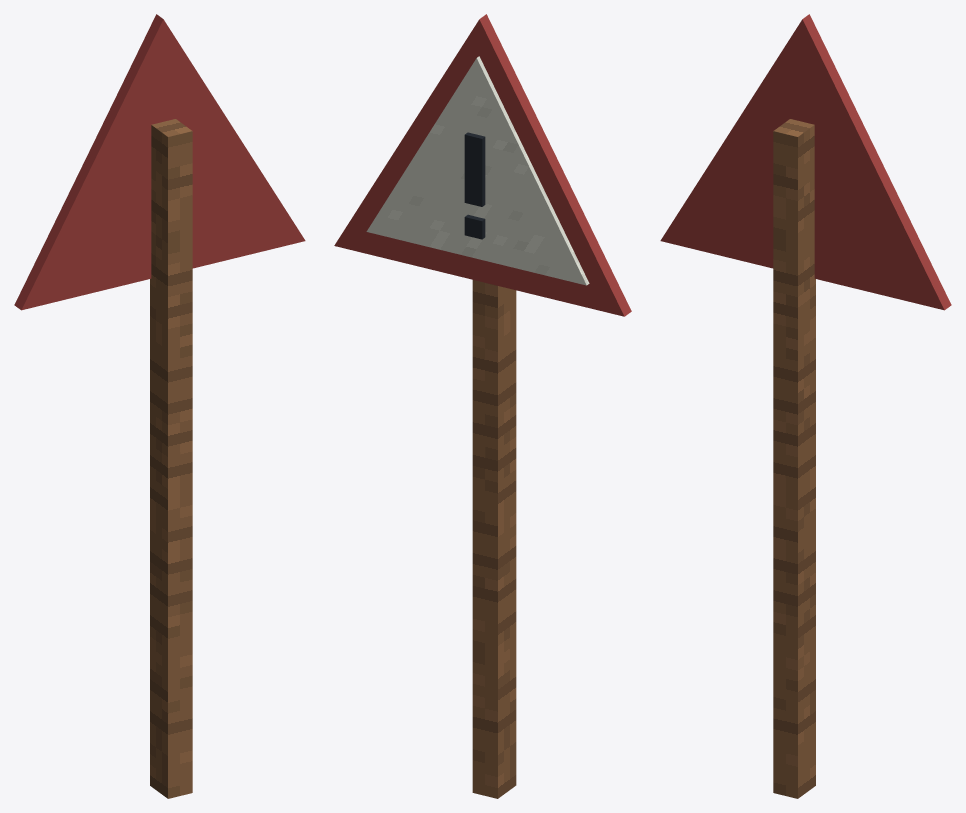
The model's file is f_sign_warning.glb.
The picture shows the model from 3 angles, left to right: view 1: azimuth 30°, elevation 25°; view 2: azimuth 150°, elevation 25°; view 3: azimuth 330°, elevation 25°; orthographic projection. The views are drawn at different scales.
Parts seen in each view (by area): view 1: block_red-outline, block_post-0; view 2: block_post-0, block_white-triangle, block_red-outline, block_warning-mark; view 3: block_red-outline, block_post-0.
Part boxes in pixels (x1,y1,x2,y2): block_red-outline: [14, 14, 305, 310]; block_post-0: [150, 119, 192, 798]; block_post-0: [472, 280, 516, 798]; block_white-triangle: [366, 56, 589, 285]; block_red-outline: [334, 14, 631, 316]; block_warning-mark: [464, 132, 485, 206]; block_red-outline: [660, 14, 951, 310]; block_post-0: [773, 119, 815, 798].
Bounding box in the file's own units: 0.58 × 1.49 × 0.105.
1 material, 1 textured.
